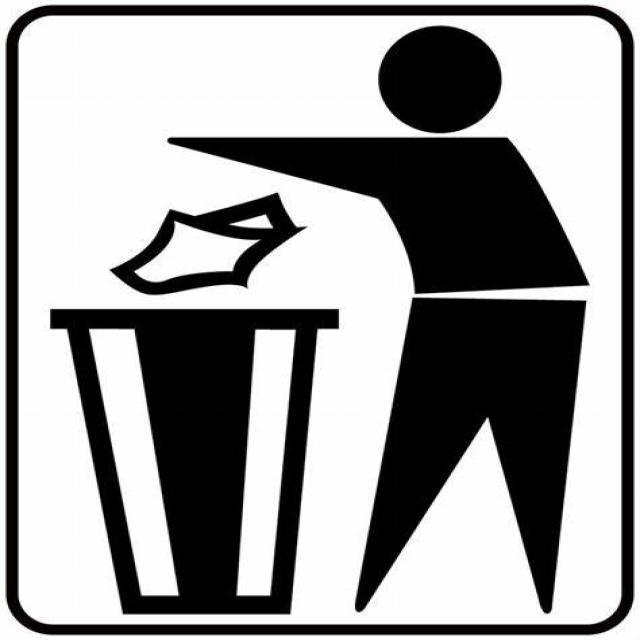garbage container: (21, 169, 329, 640)
